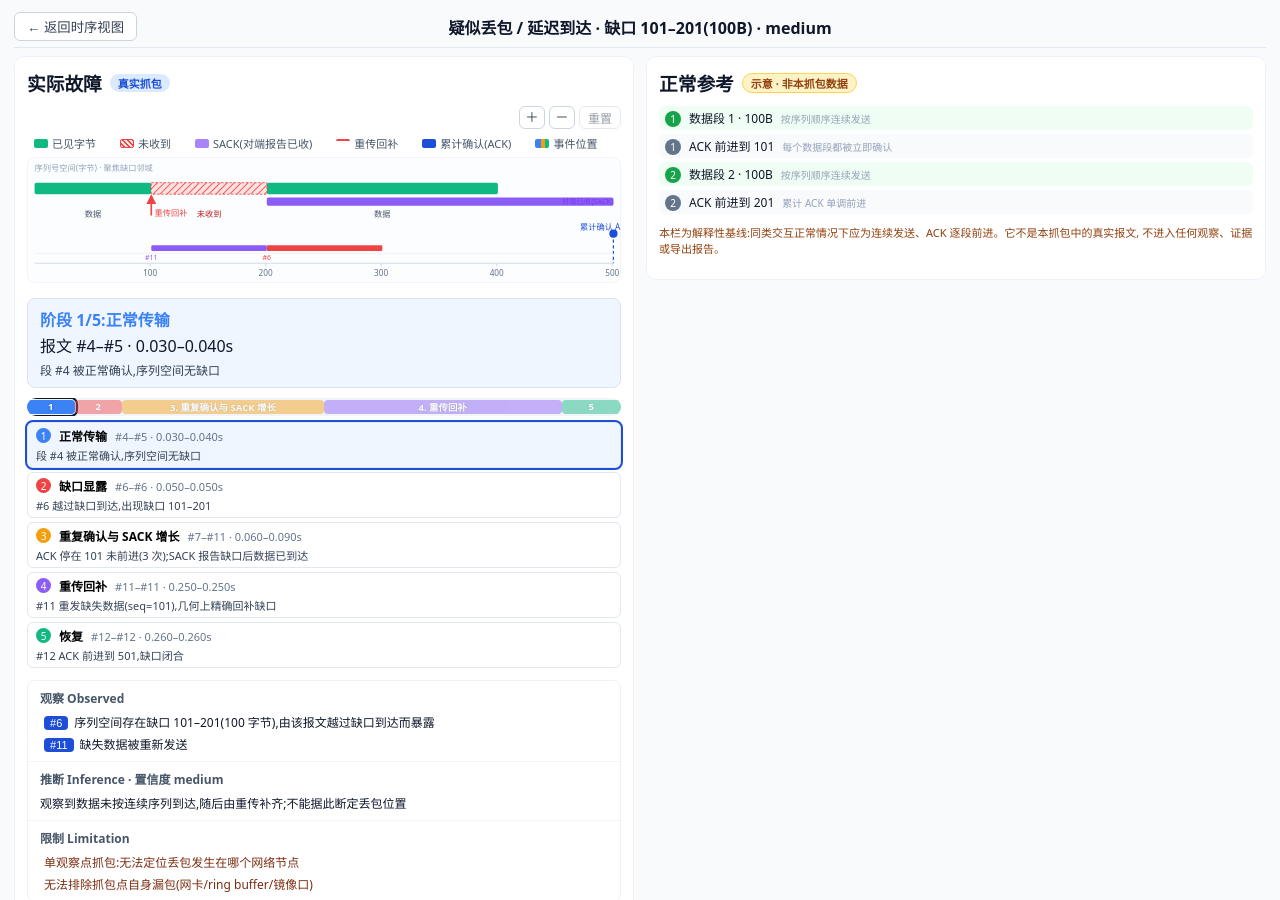
Scenario: FaultCompare 对照页(整页板块) › 无播放控件:静态终态直接呈现,阶段卡照常点选(播放功能已按用户要求移除)
Click the button "5 恢复 #12–#12 · 0.260–0.260s #12 ACK 前进到 501,缺口闭合" at (110, 655), box [27,622,621,668]
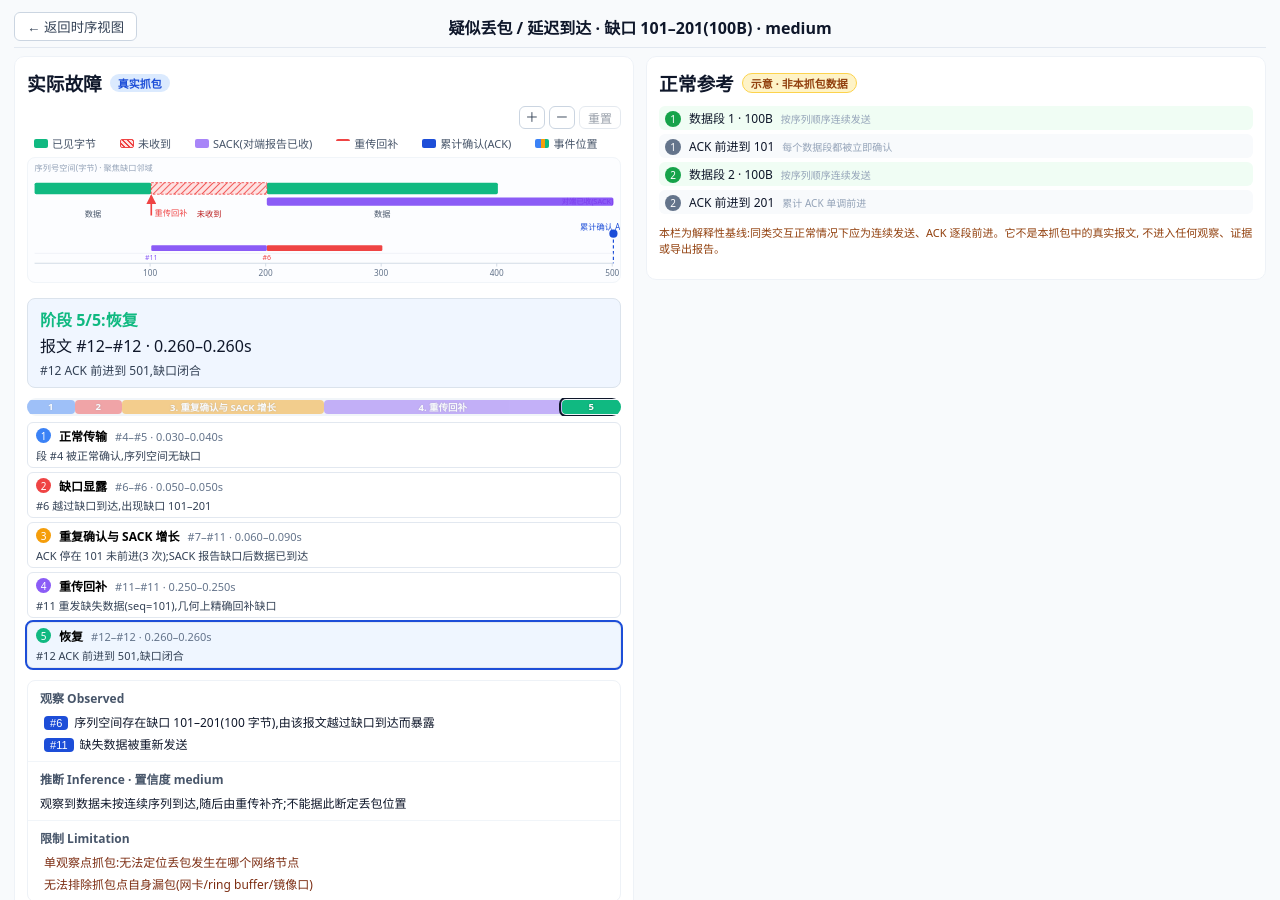
Expected: the element with test id "fc-stage-panel" shows "恢复", [106,309,138,331]
